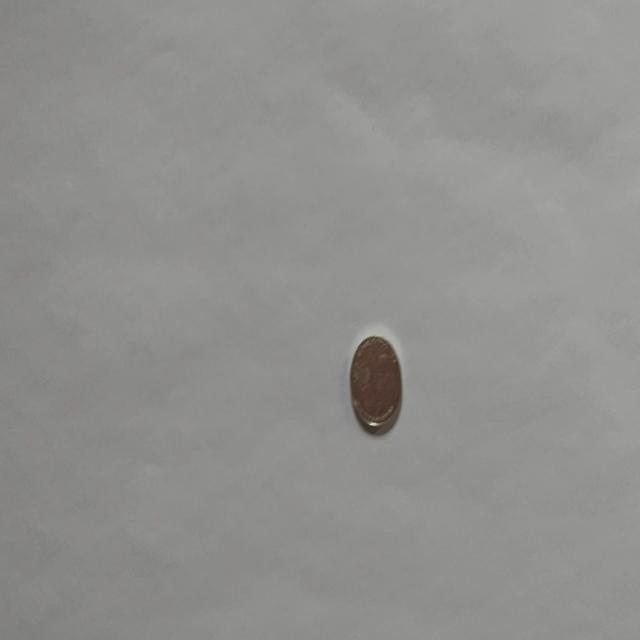lima ratus rupiah: (348, 332, 402, 434)
